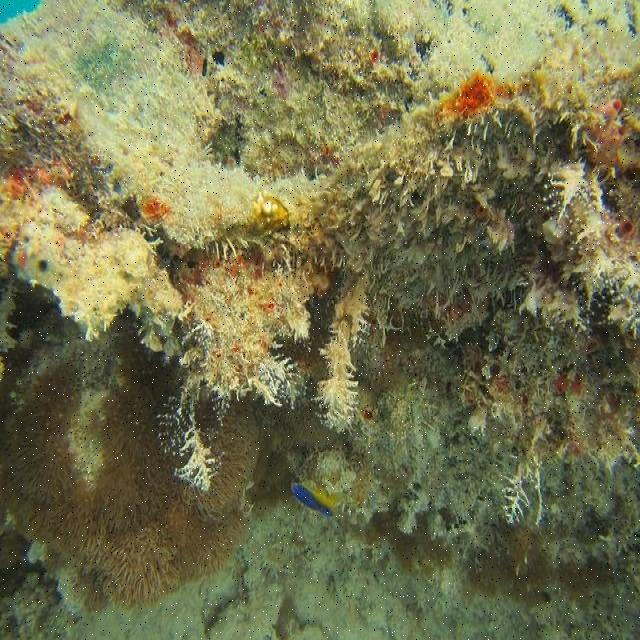fish: (291, 482, 342, 519)
reefs: (0, 0, 639, 526)
